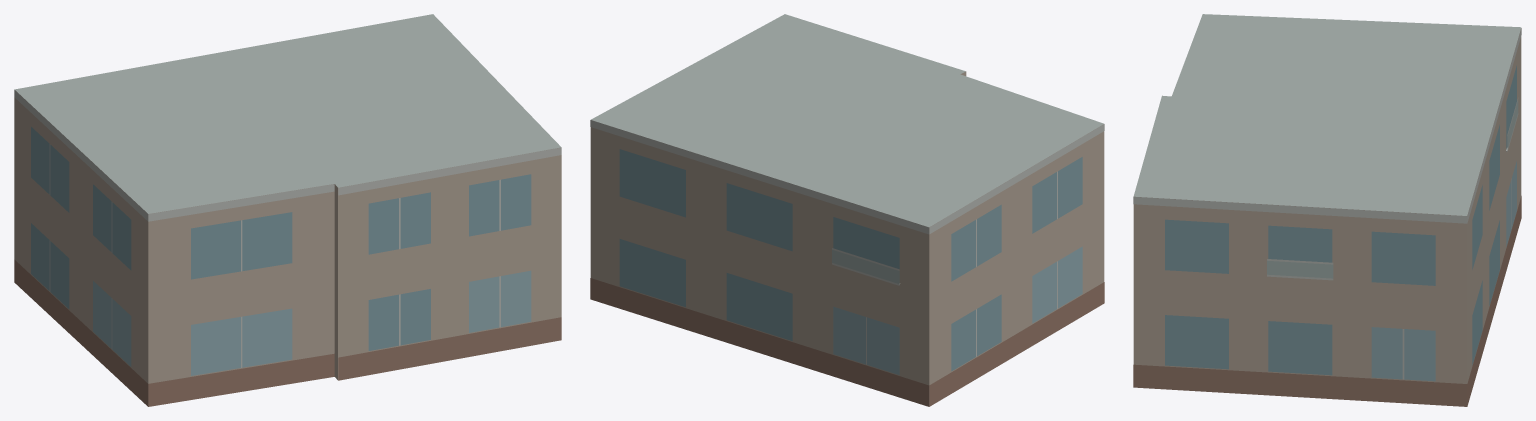
Rendered from survey-upis-32615531.glb.
3 views of the same model, side by side, from view 1: azimuth 30°, elevation 25°; view 2: azimuth 150°, elevation 25°; view 3: azimuth 270°, elevation 25° (orthographic). The views are drawn at different scales.
Visible parts, largest first — view 1: survey-upis-32615531.tmp; view 2: survey-upis-32615531.tmp; view 3: survey-upis-32615531.tmp.
Boxes of the visible parts, bbox=[...] form: survey-upis-32615531.tmp: bbox=[14, 14, 561, 406]; survey-upis-32615531.tmp: bbox=[590, 14, 1104, 406]; survey-upis-32615531.tmp: bbox=[1133, 14, 1521, 406].
Bounding box in the file's own units: 13.86 × 6.1 × 11.25.
